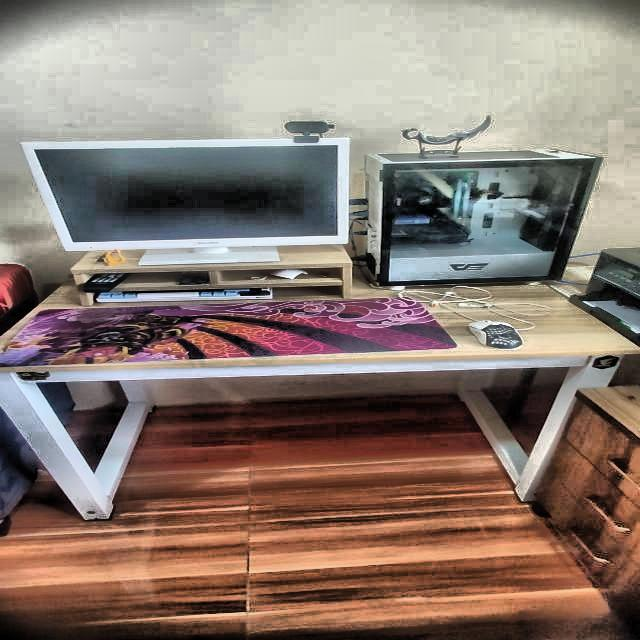mesa: (0, 276, 640, 520)
